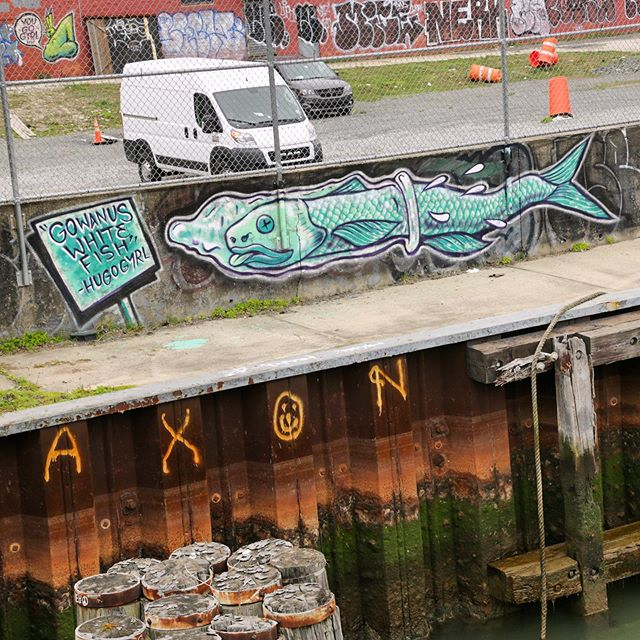car: (258, 53, 339, 110)
graffiti: (25, 121, 640, 332), (18, 358, 440, 499), (127, 1, 640, 62)
van: (135, 60, 325, 181)
